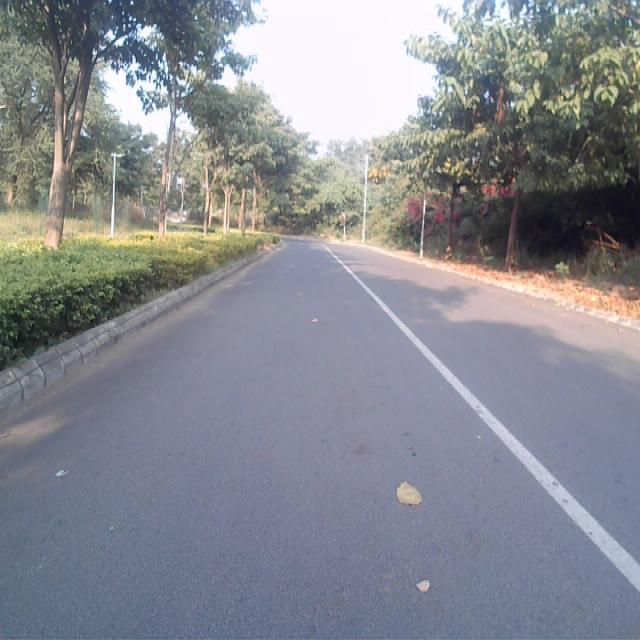lane: (1, 242, 640, 640)
